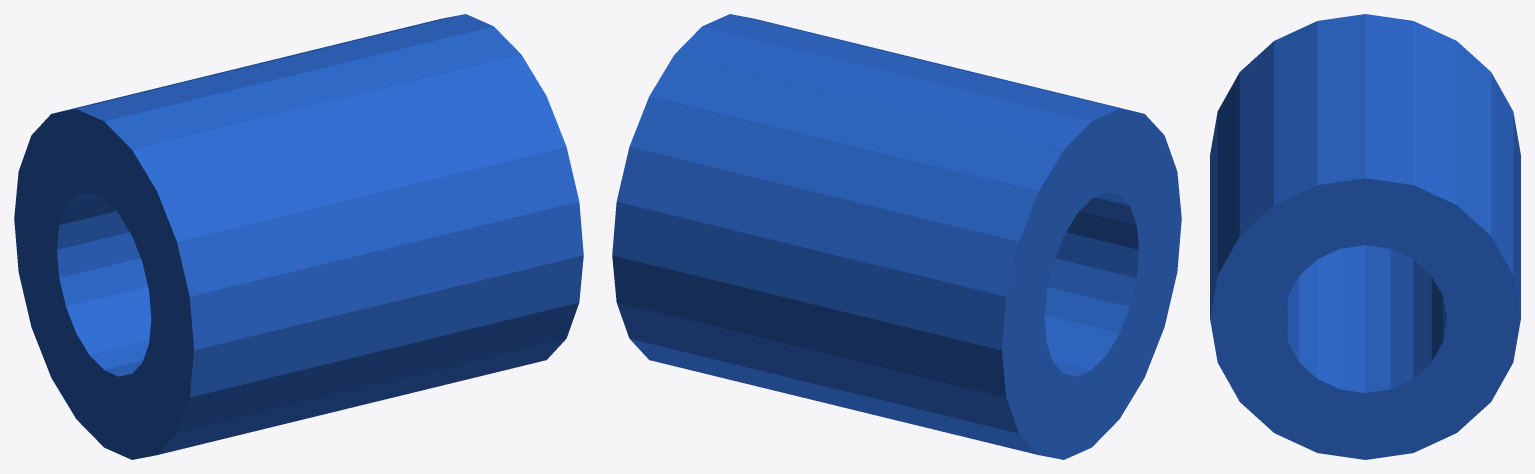
File: blue_sleeve.dae
3 renders of one model, left to right at view 1: azimuth 30°, elevation 25°; view 2: azimuth 150°, elevation 25°; view 3: azimuth 270°, elevation 25°, orthographic. The views are drawn at different scales.
Parts seen in each view (by area): view 1: Sleeve; view 2: Sleeve; view 3: Sleeve.
Part boxes in pixels (bbox=[...]): Sleeve: bbox=[14, 14, 583, 459]; Sleeve: bbox=[612, 14, 1181, 459]; Sleeve: bbox=[1210, 14, 1520, 459].
Size of the model in its own units: 20 by 16 by 16.
